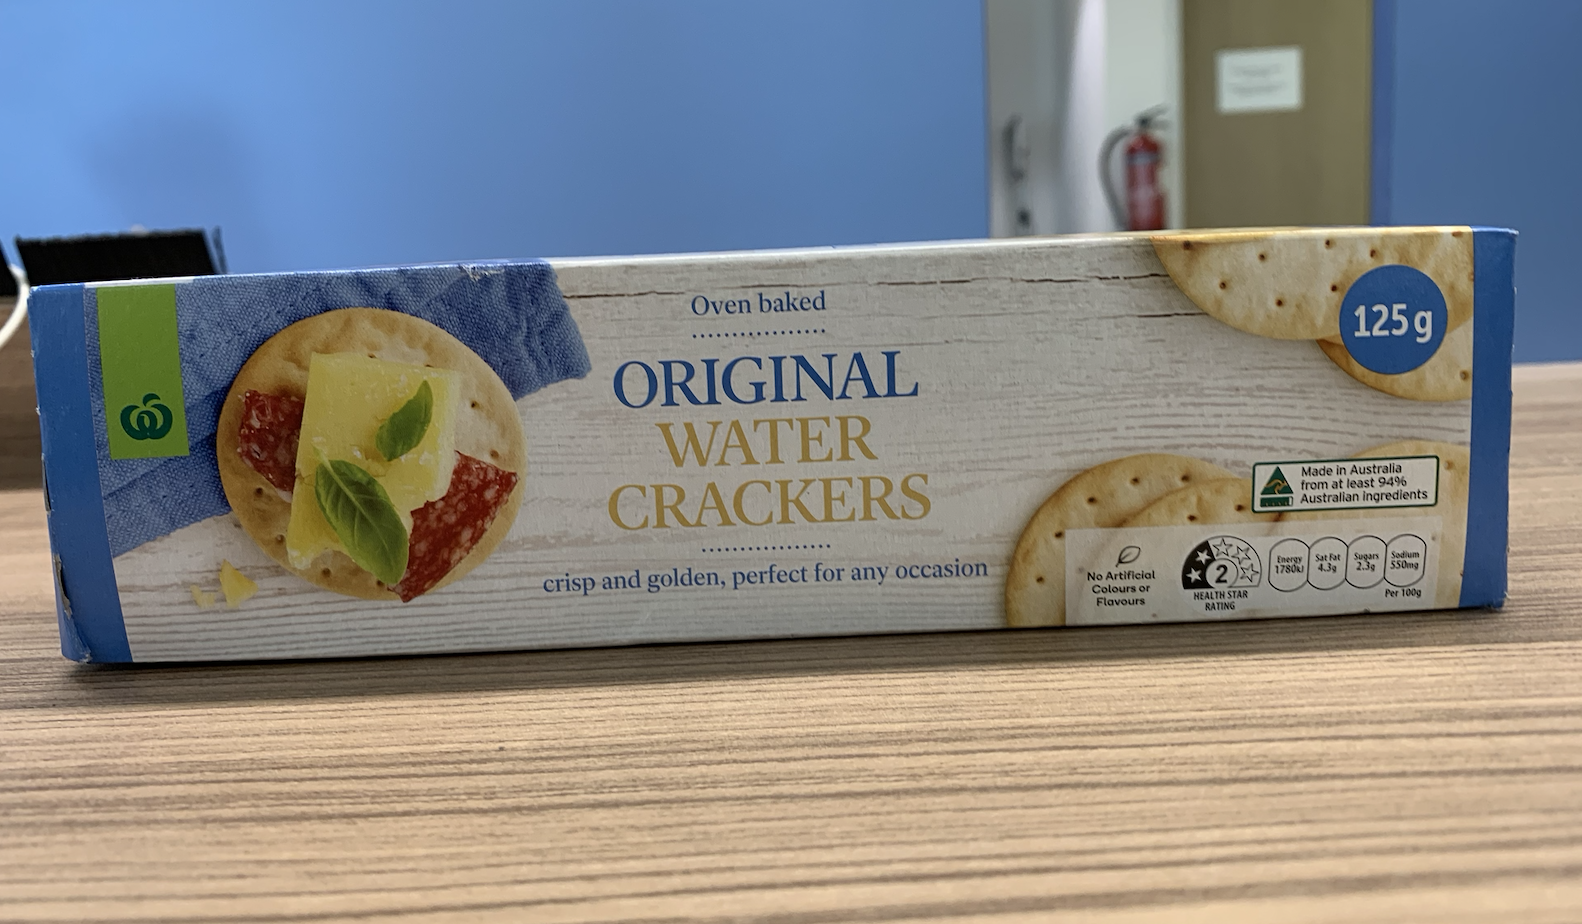crackers_150g: (93, 280, 1483, 615)
